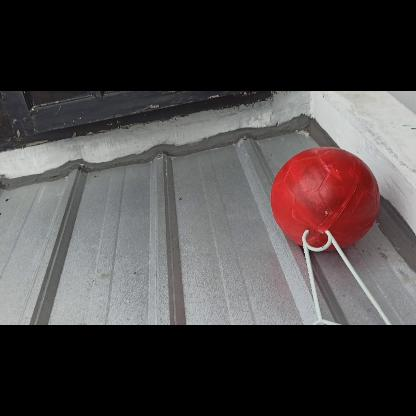red_ball: (270, 144, 378, 252)
